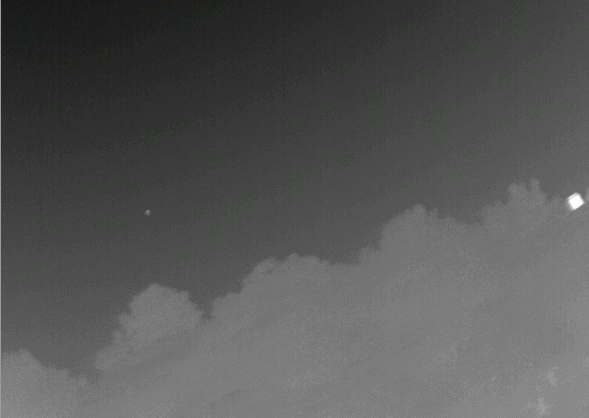dim target: (143, 209, 152, 216)
